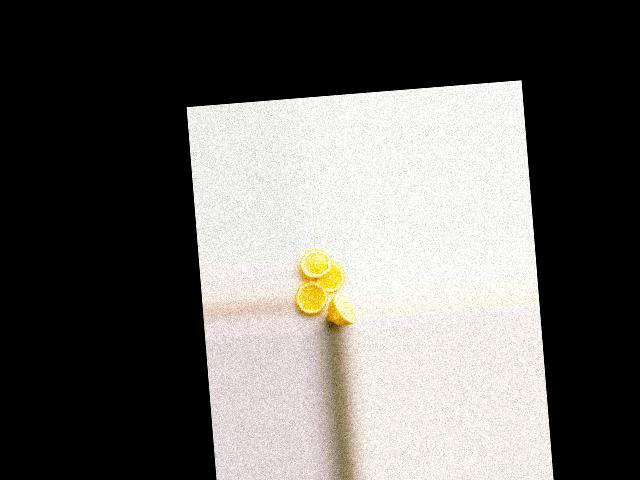lemon: (327, 292, 358, 328)
